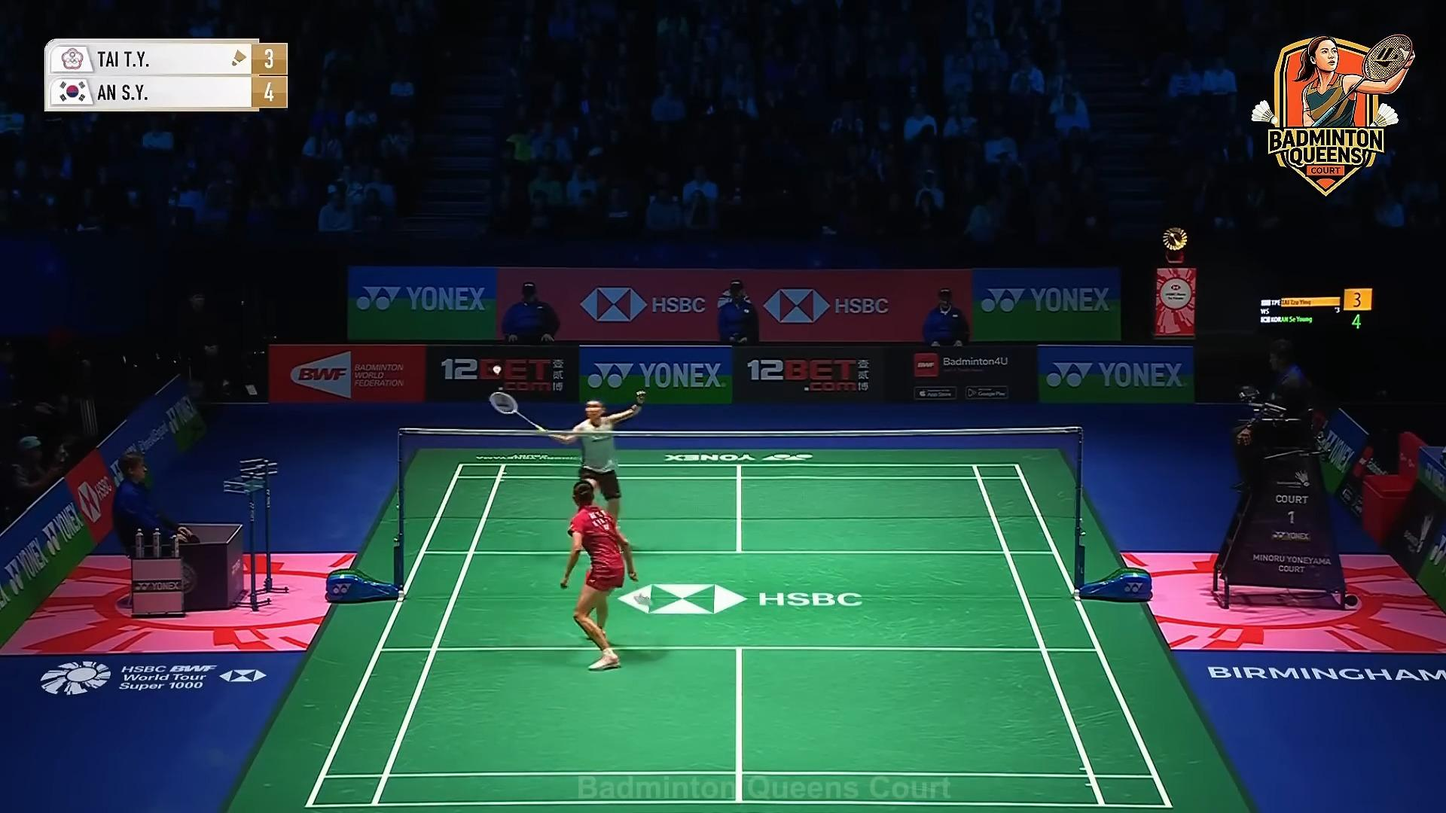player: (536, 387, 647, 557), (560, 480, 638, 671)
